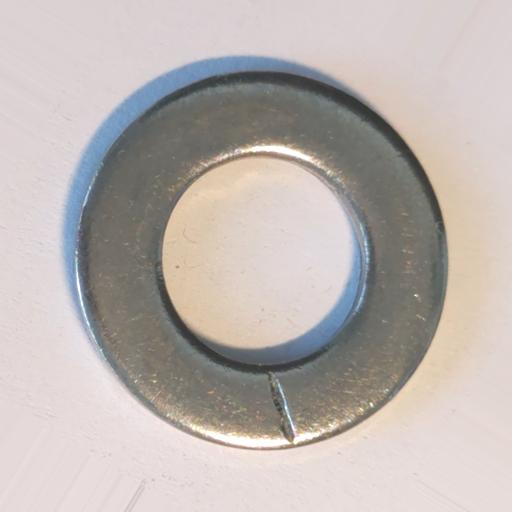scratch: (266, 368, 298, 445)
